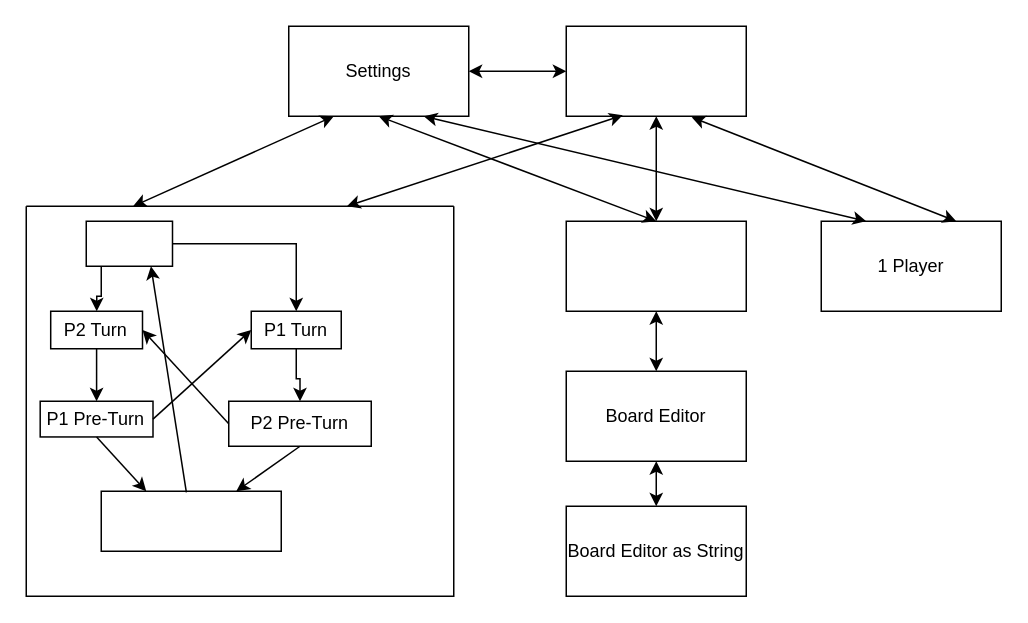
Some shapes in this 1028 by 623 pixel diagram are drawn without their labels. The shapes that lost their labels are listed below. From the top down, each one's box as (x1, y1, x2, y2) in pixels, then its label:
(565, 25, 746, 116): Mian Menu
(85, 220, 172, 266): Start
(565, 220, 746, 311): Sim
(100, 490, 281, 551): Game Over
